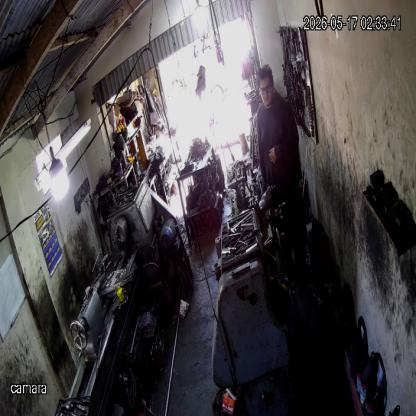lentes: (258, 83, 274, 95)
